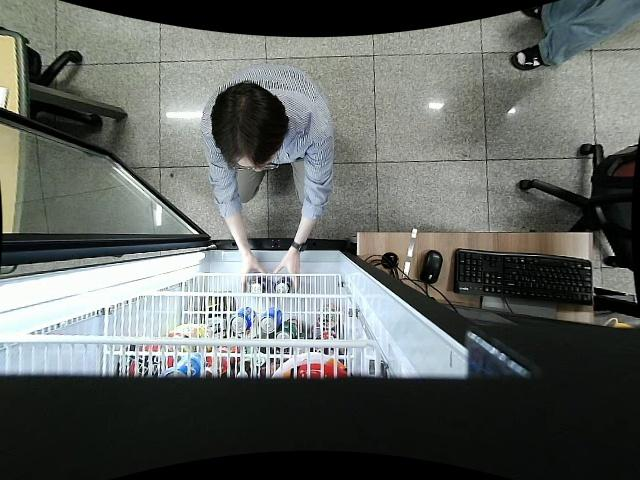00_hand: (270, 256, 304, 298), (235, 258, 267, 289)
14_welchsGrape: (245, 278, 266, 299), (272, 272, 292, 294)
